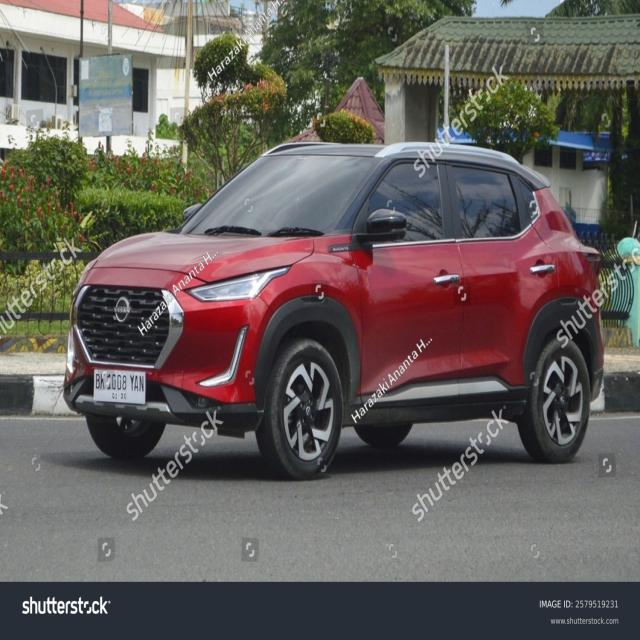nissan: (103, 286, 137, 326)
